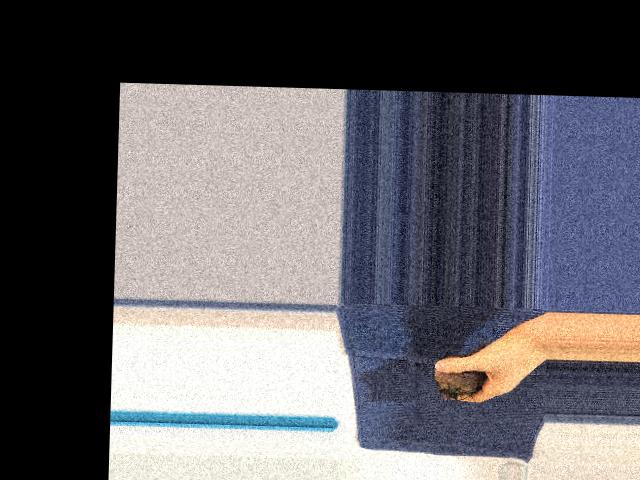beet: (433, 337, 486, 400)
